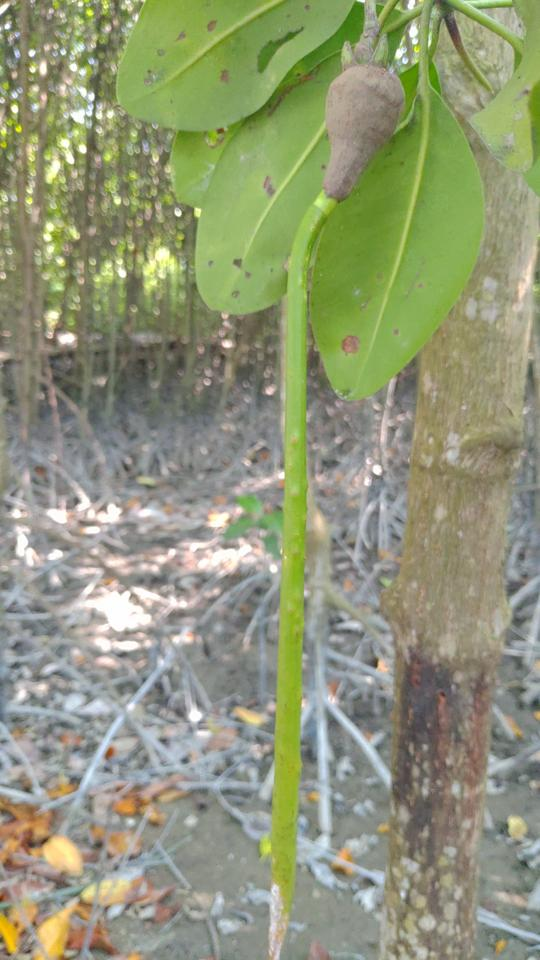setengah matang: (252, 38, 417, 955)
